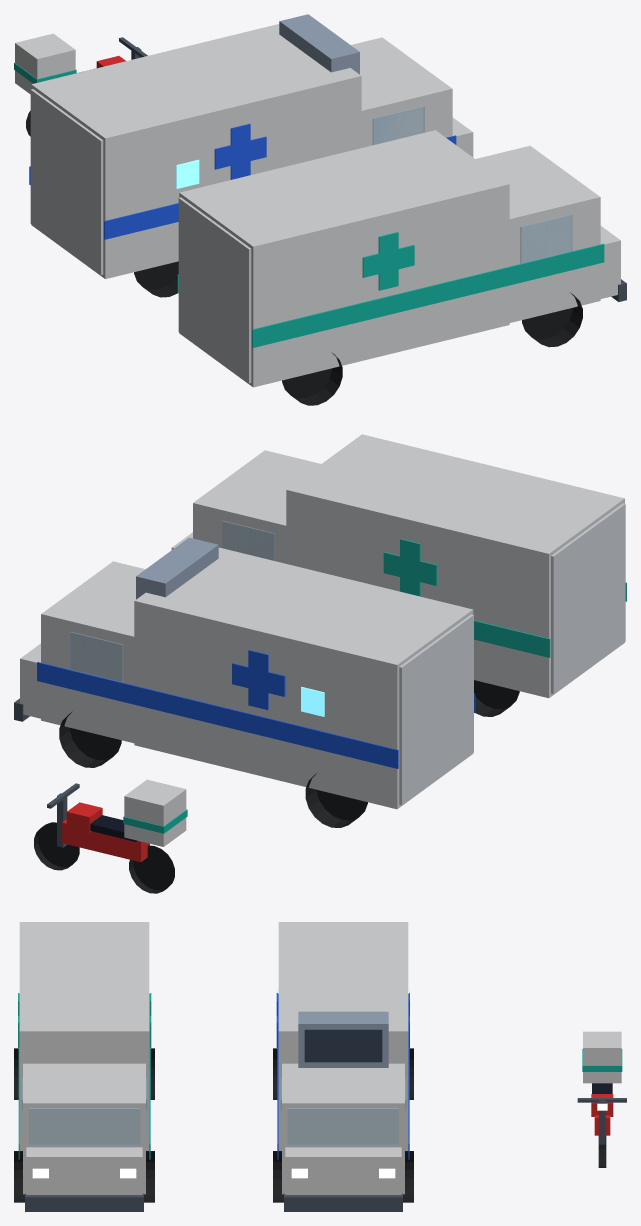
Rendered from vehiculos.glb.
3 renders of one model, top to bottom at view 1: azimuth 30°, elevation 25°; view 2: azimuth 150°, elevation 25°; view 3: azimuth 270°, elevation 25°, orthographic. The views are drawn at different scales.
Parts seen in each view (by area): view 1: Van_Seca, Van_Refrigerada, Moto_Reparto; view 2: Van_Refrigerada, Van_Seca, Moto_Reparto; view 3: Van_Refrigerada, Van_Seca, Moto_Reparto.
Boxes of the visible parts, bbox=[...] form: Van_Seca: bbox=[177, 130, 626, 405]; Van_Refrigerada: bbox=[29, 14, 473, 297]; Moto_Reparto: bbox=[14, 33, 147, 136]; Van_Refrigerada: bbox=[14, 537, 475, 827]; Van_Seca: bbox=[171, 434, 626, 716]; Moto_Reparto: bbox=[34, 779, 187, 893]; Van_Refrigerada: bbox=[273, 922, 413, 1211]; Van_Seca: bbox=[14, 922, 154, 1211]; Moto_Reparto: bbox=[577, 1031, 626, 1167].
Bounding box in the file's own units: 5.92 × 2.75 × 9.47.
